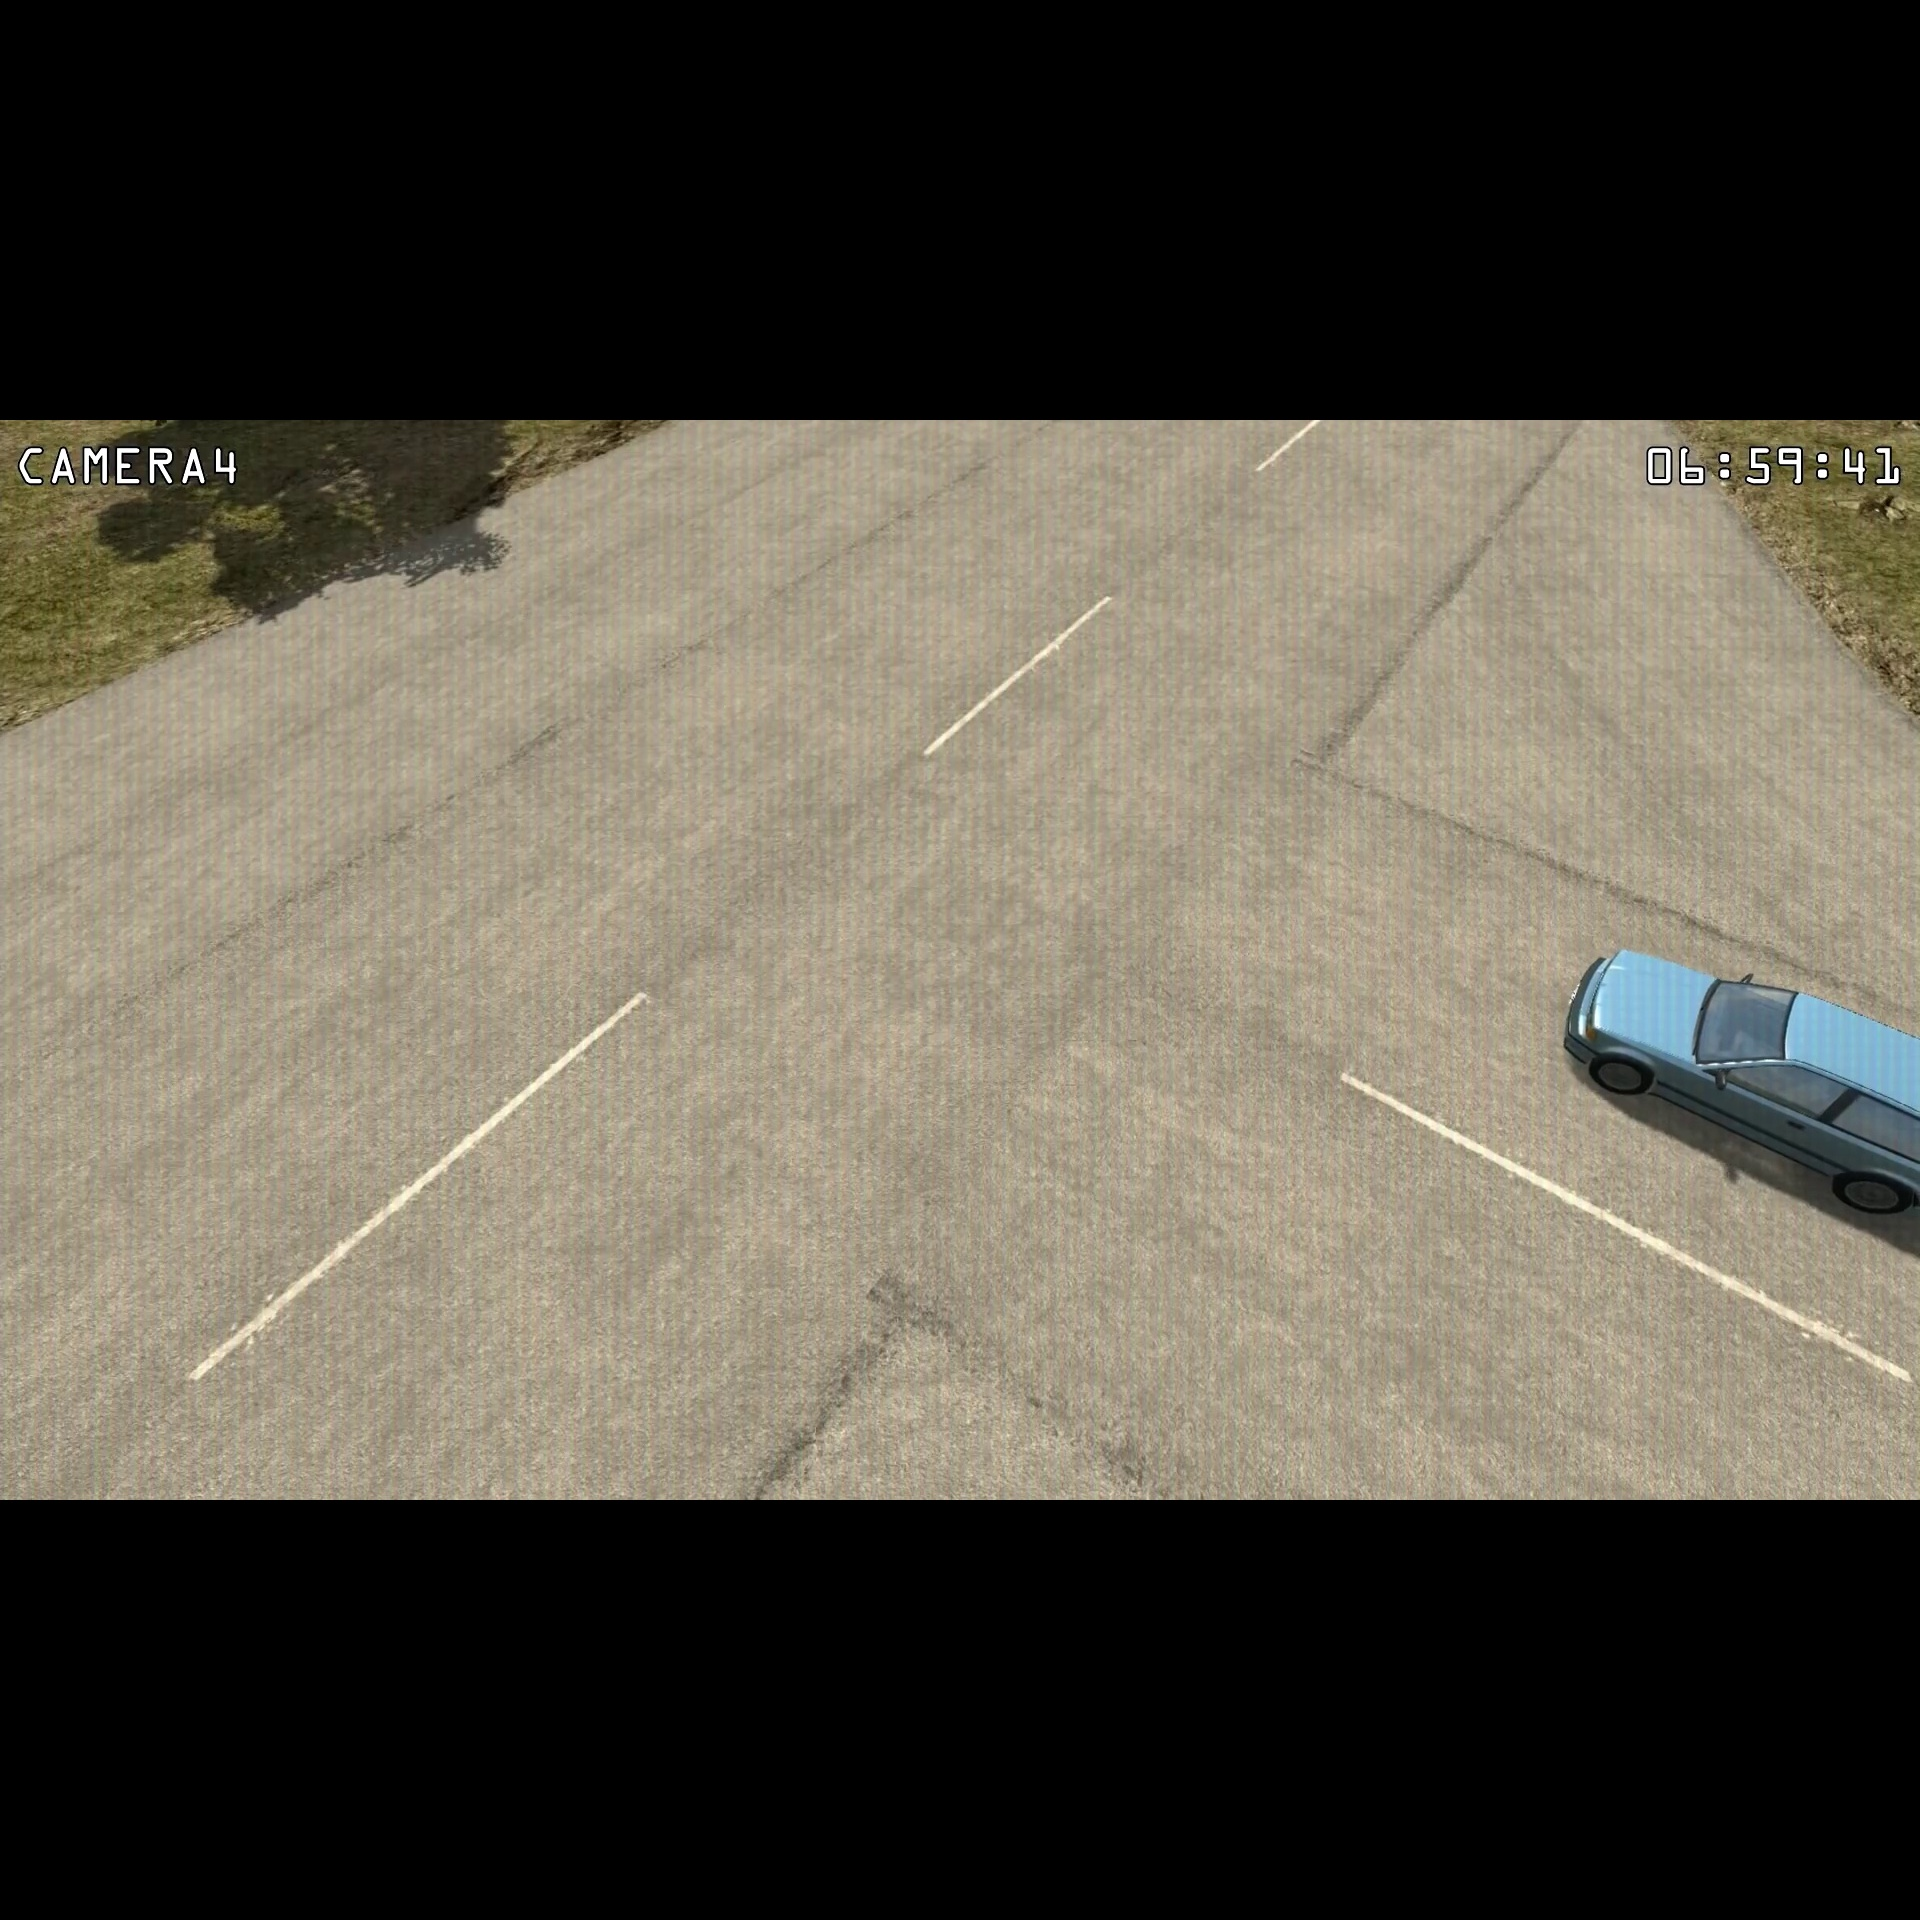vehicle: (1551, 942, 1920, 1222)
